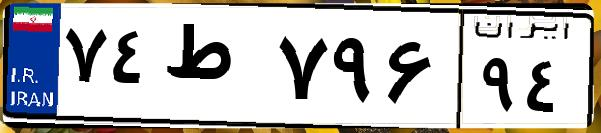4: (525, 38, 570, 115), (110, 28, 158, 98)
6: (385, 28, 445, 110)
7: (270, 28, 330, 110), (57, 26, 110, 100)
9: (330, 28, 385, 110), (475, 38, 525, 113)
ط: (158, 20, 270, 120)
